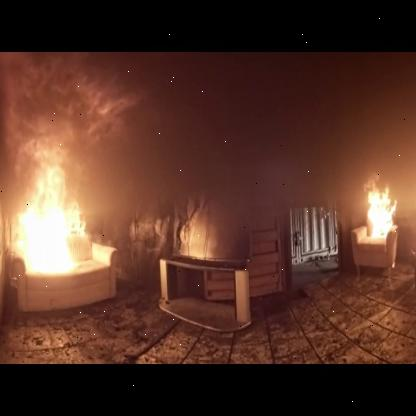fire: (10, 156, 87, 276), (357, 177, 399, 248)
smoke: (2, 44, 416, 234)
